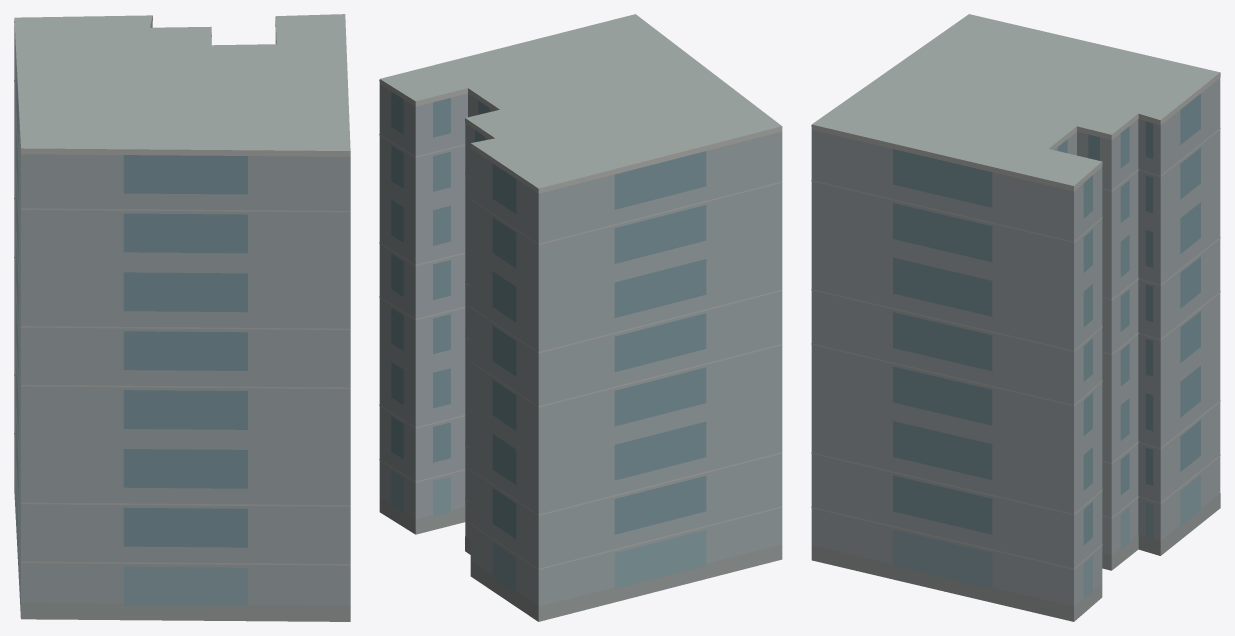
File: survey-upis-32749562.glb
3 renders of one model, left to right at view 1: azimuth 30°, elevation 25°; view 2: azimuth 150°, elevation 25°; view 3: azimuth 270°, elevation 25°, orthographic. The views are drawn at different scales.
Visible parts, largest first — view 1: survey-upis-32749562.tmp; view 2: survey-upis-32749562.tmp; view 3: survey-upis-32749562.tmp.
Part boxes in pixels (<box>): survey-upis-32749562.tmp: <box>14,14,350,621</box>; survey-upis-32749562.tmp: <box>379,14,782,621</box>; survey-upis-32749562.tmp: <box>811,14,1220,621</box>.
Size of the model in its own units: 16.91 by 19.95 by 16.98.
